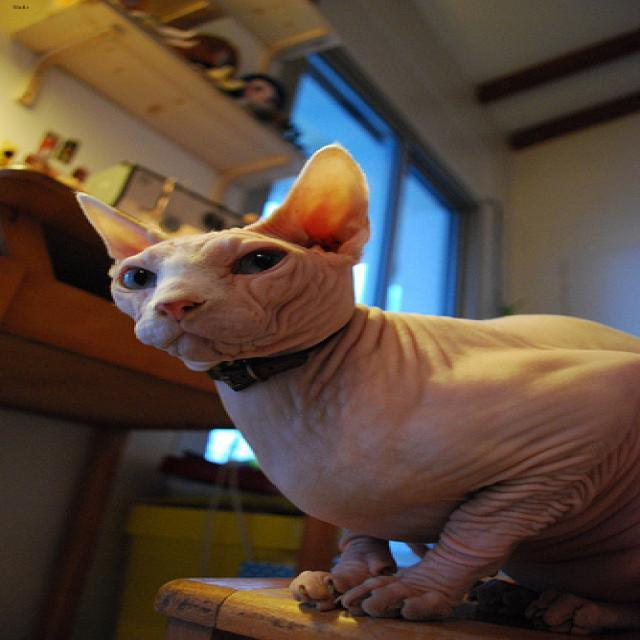Sphynx: (68, 143, 372, 374)
